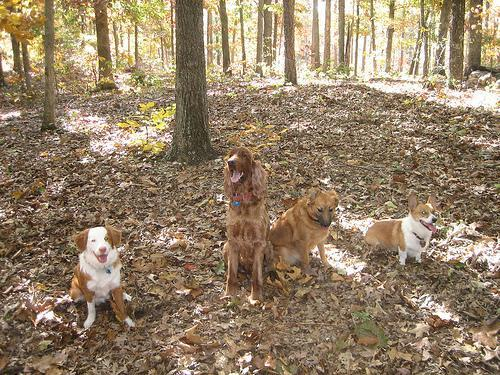Irish_setter: (214, 146, 272, 295)
